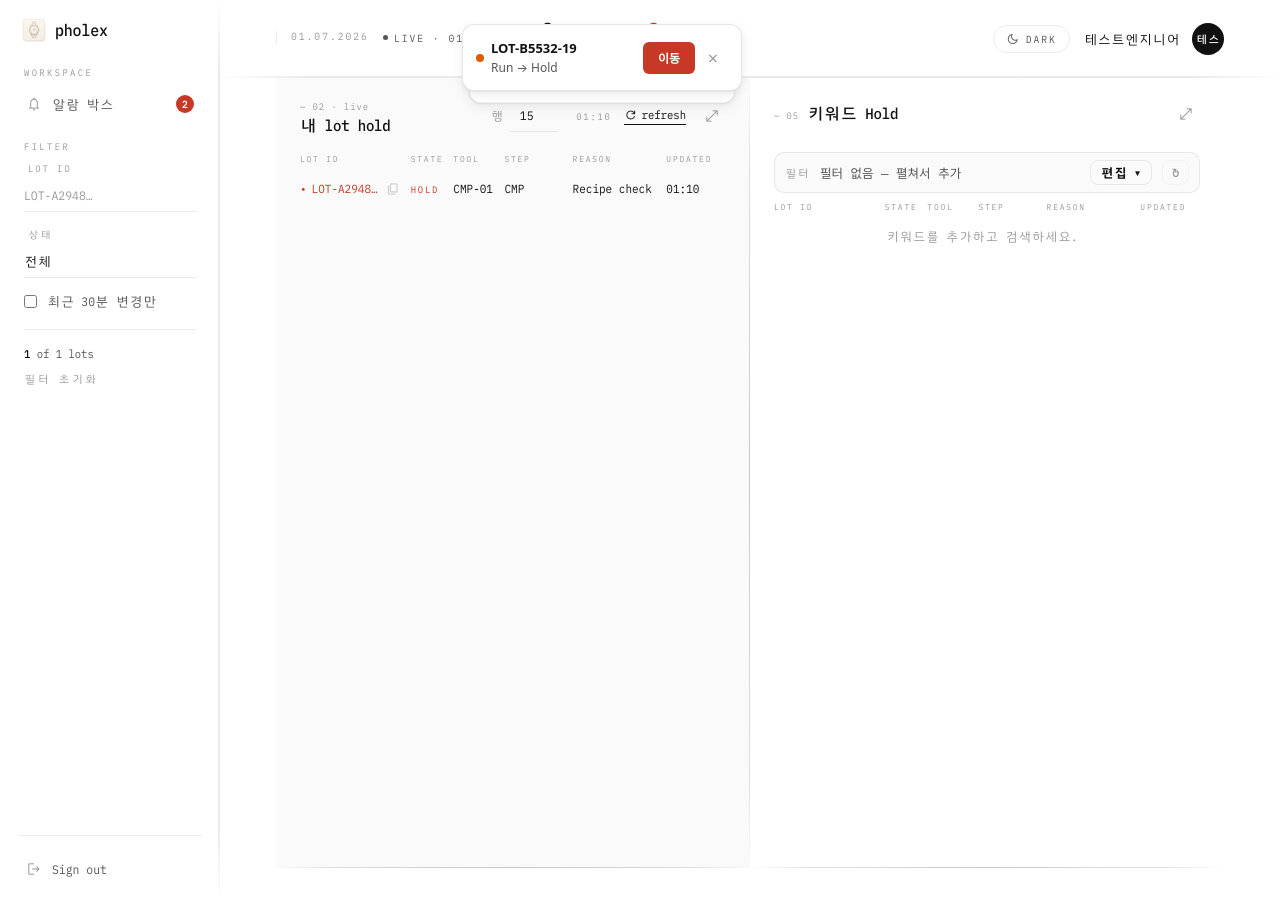
Test case: Alarm dock › filters the alarm list by the search box (lot id / content)
Expected: the heading "내 lot hold" is shown, left=300, top=116, right=390, bottom=135
Expected: the text "2" is shown, left=176, top=95, right=194, bottom=113
Click the button "알람 박스 2" at (110, 104), box left=18, top=88, right=202, bottom=120
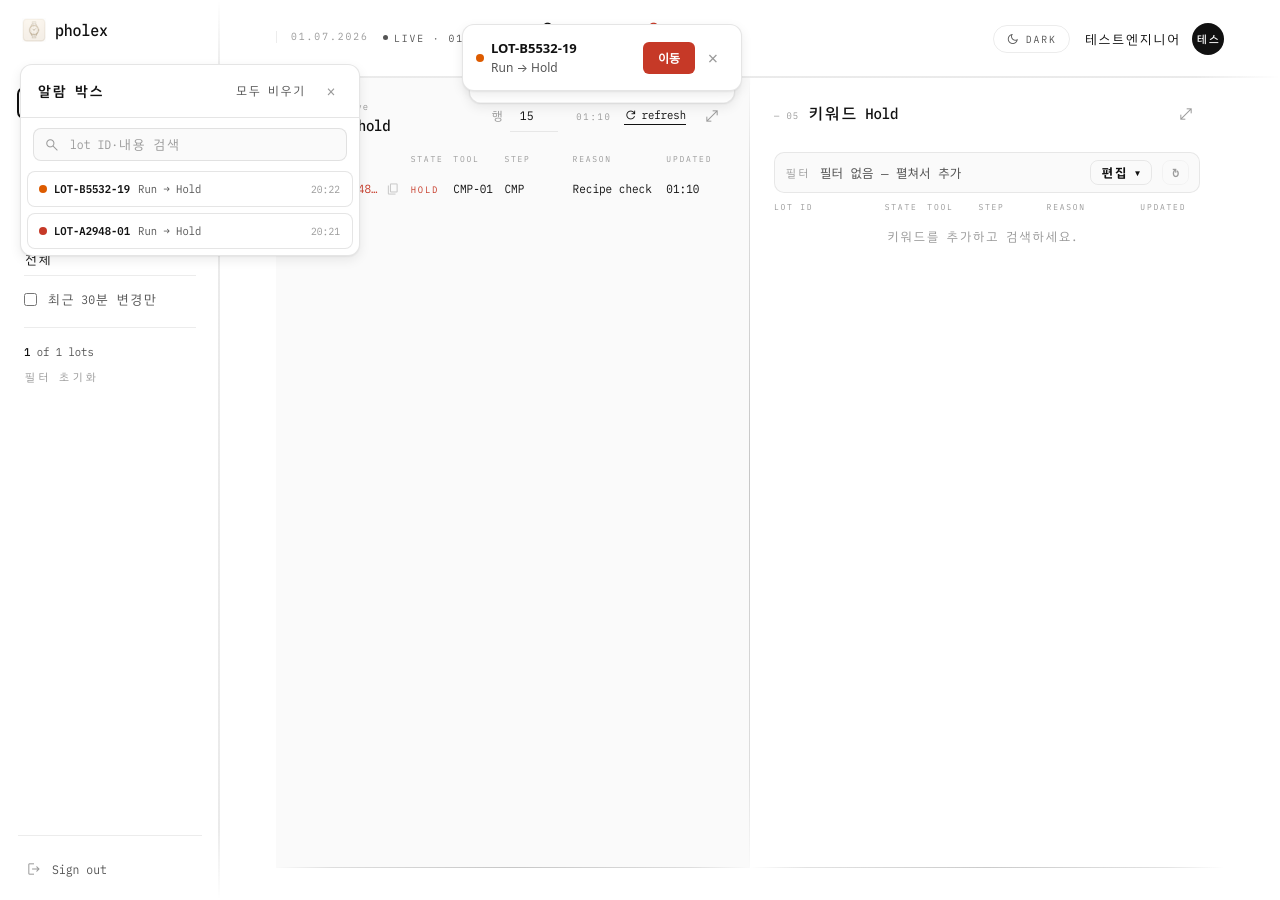
Expected: the text "LOT-A2948-01" is shown, left=54, top=224, right=130, bottom=238
Expected: the text "LOT-B5532-19" in the row of "CMP-01" is shown, left=54, top=182, right=130, bottom=196
// 한 lot만 매칭하는 검색어 → 나머지는 사라짐
Type "A2948" into the search field named "알람 검색" at (202, 144), box left=68, top=136, right=336, bottom=153
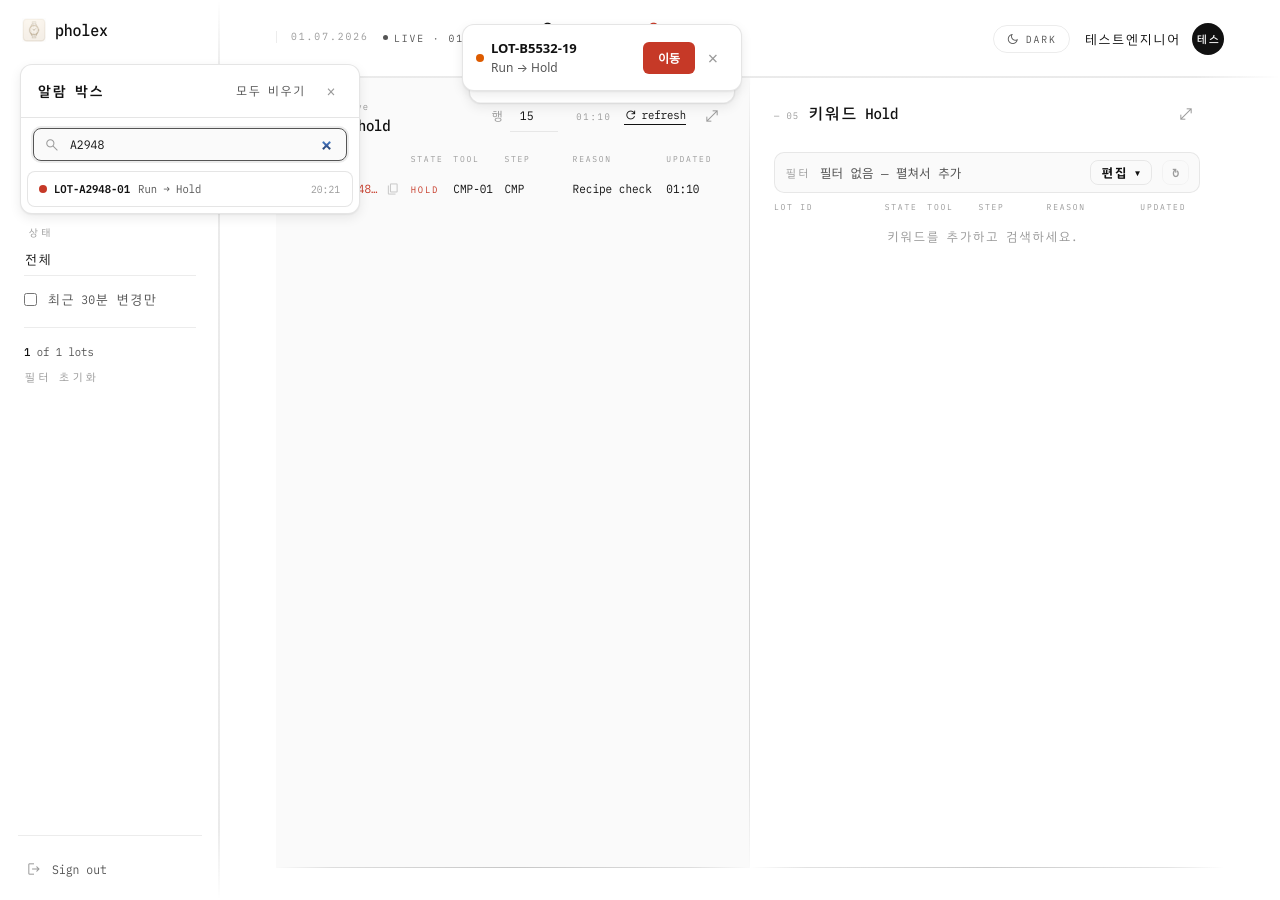
Expected: the text "LOT-A2948-01" is shown, left=54, top=182, right=130, bottom=196
// 아무것도 매칭 안 되면 전용 empty 문구
Replace the text in the search field named "알람 검색" with "zzz없는값" at (202, 144), box left=68, top=136, right=336, bottom=153
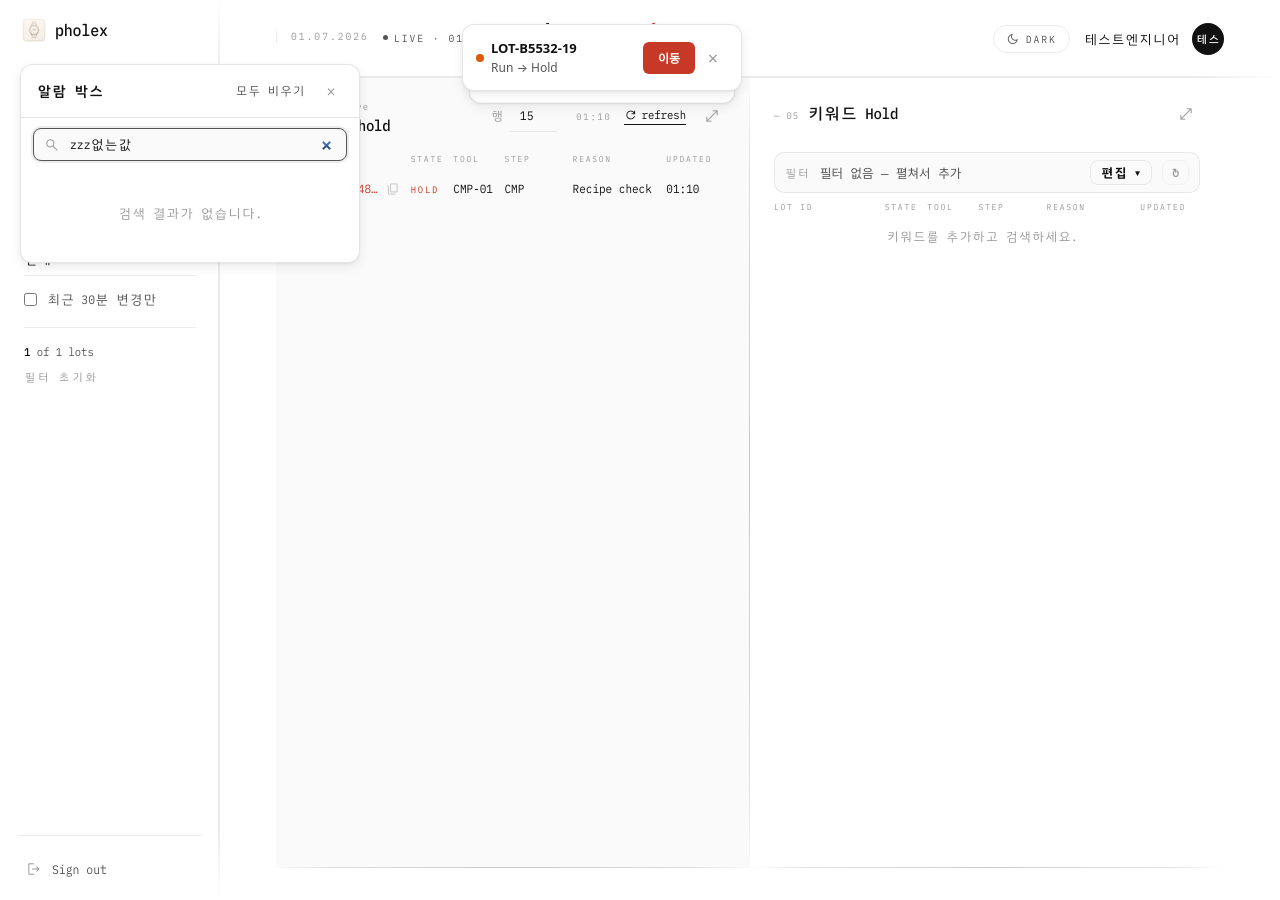
Expected: the text "검색 결과가 없습니다." is shown, left=118, top=206, right=262, bottom=221
